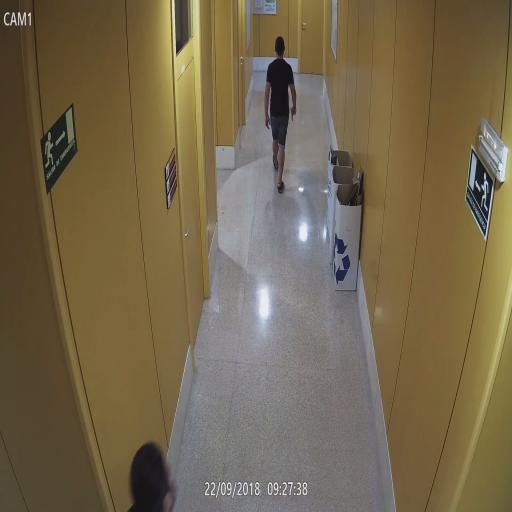Handgun: (290, 102, 298, 123)
